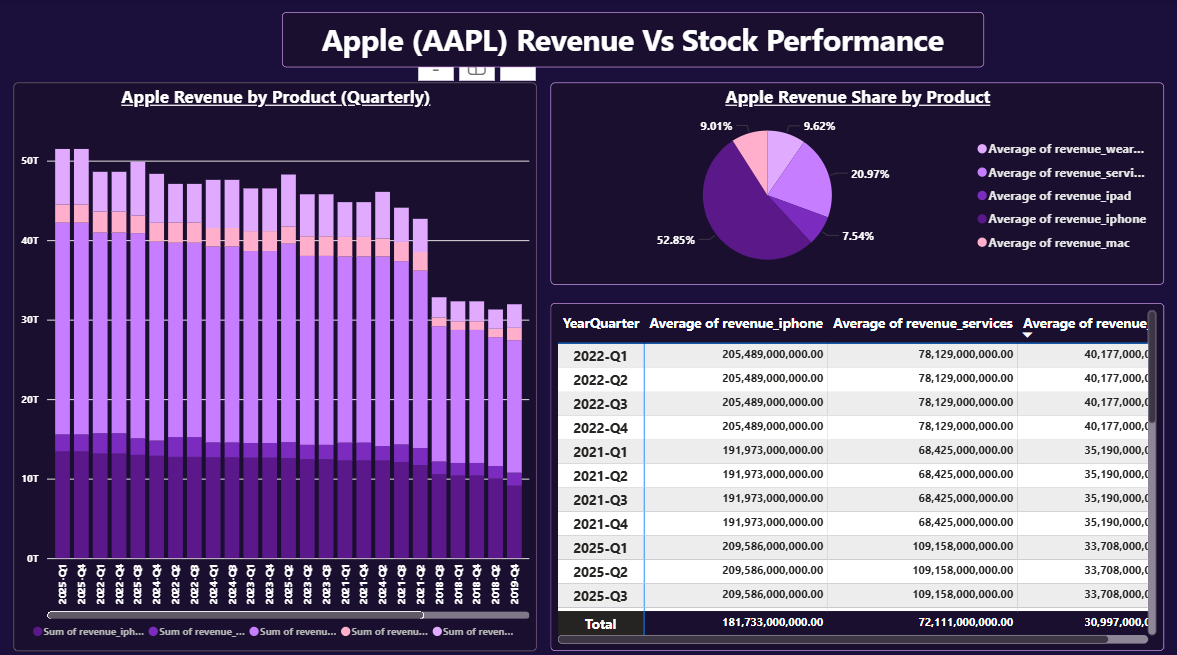

The dashboard page shown, as its layout file describes it:
{"tool":"powerbi","page":{"name":"REVENUE  VS STOCK PERFORMANCE","canvas":[1280,720],"ordinal":3},"visuals":[{"type":"columnChart","title":"Apple Revenue by Product (Quarterly)","fields":{"Category":["aapl_quarterly_summary.YearQuarter"],"Y":["Sum(aapl_master_enriched( FACT TABLE.revenue_iphone)","Sum(aapl_master_enriched( FACT TABLE.revenue_mac)","Sum(aapl_master_enriched( FACT TABLE.revenue_total)","Sum(aapl_master_enriched( FACT TABLE.revenue_wearables_other)","Sum(aapl_master_enriched( FACT TABLE.revenue_services)"]},"box":[14.6,92.7,567.7,616.5],"z":0},{"type":"pieChart","title":"Apple  Revenue Share by Product","fields":{"Y":["Avg(aapl_quarterly_summary.revenue_wearables_other)","Avg(aapl_quarterly_summary.revenue_services)","Avg(aapl_quarterly_summary.revenue_ipad)","Avg(aapl_quarterly_summary.revenue_iphone)","Avg(aapl_quarterly_summary.revenue_mac)"]},"box":[596.9,92.7,665.3,219.6],"z":1000},{"type":"pivotTable","fields":{"Rows":["aapl_quarterly_summary.YearQuarter"],"Values":["Avg(aapl_quarterly_summary.revenue_iphone)","Avg(aapl_quarterly_summary.revenue_services)","Avg(aapl_quarterly_summary.revenue_mac)"]},"box":[596.9,331.8,665.3,377.4],"z":2000},{"type":"textbox","box":[305.8,16.3,761.2,60.2],"z":3000}]}

Visuals, with their boxes in screenshot pixels (x1, y1, x2, y2), scaled from the page's 1280x720 canvas onto the 1177x655 screenshot:
"Apple Revenue by Product (Quarterly)" columnChart: BBox(13, 84, 535, 645)
"Apple  Revenue Share by Product" pieChart: BBox(549, 84, 1161, 284)
pivotTable - aapl_quarterly_summary.YearQuarter x Avg(aapl_quarterly_summary.revenue_iphone): BBox(549, 302, 1161, 645)
textbox: BBox(281, 15, 981, 70)
